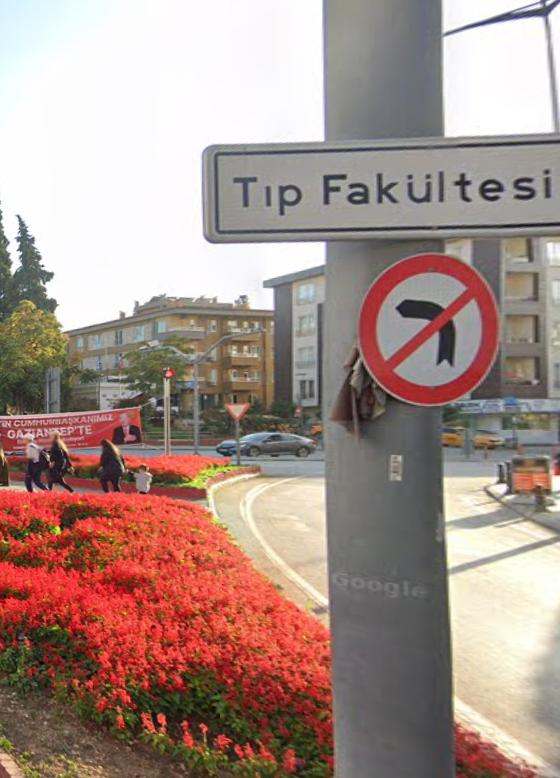leftturnsareforbidden: (357, 250, 500, 406)
